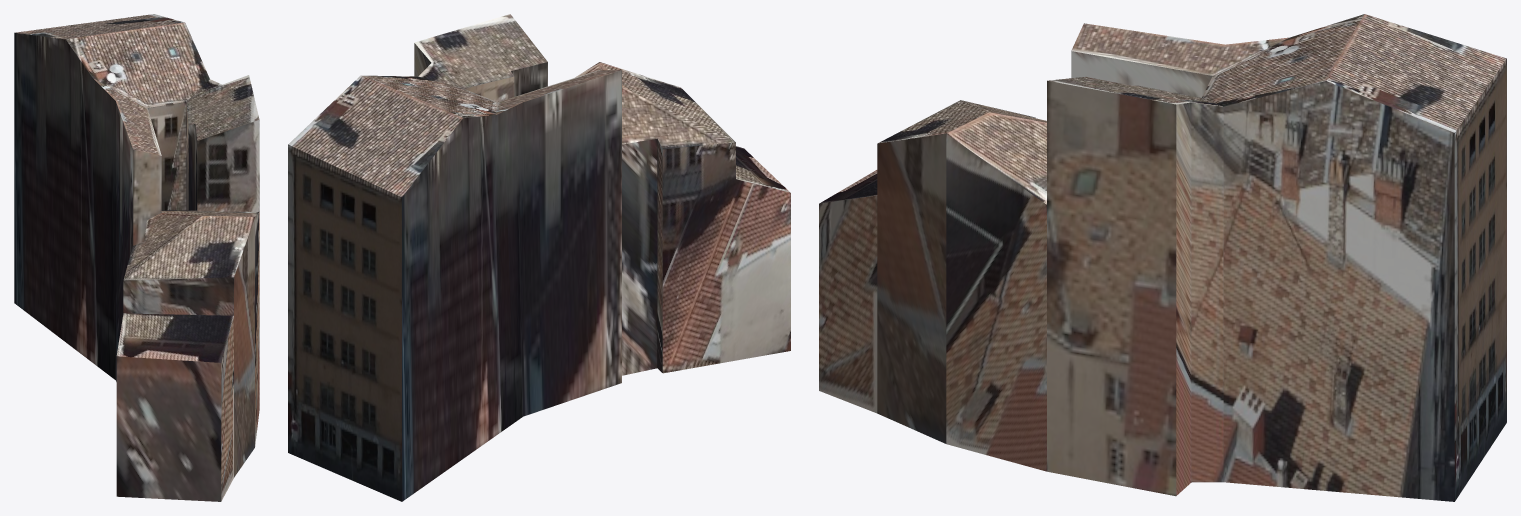
3 renders of one model, left to right at view 1: azimuth 30°, elevation 25°; view 2: azimuth 150°, elevation 25°; view 3: azimuth 270°, elevation 25°, orthographic. The views are drawn at different scales.
Parts seen in each view (by area): view 1: Z_UP; view 2: Z_UP; view 3: Z_UP.
Boxes of the visible parts, left/top/right/bottom form: Z_UP: left=14, top=14, right=259, bottom=501; Z_UP: left=288, top=14, right=790, bottom=501; Z_UP: left=819, top=14, right=1506, bottom=501.
Size of the model in its own units: 19.99 by 24.02 by 36.52.
Materials: 2 (1 with a texture image).
